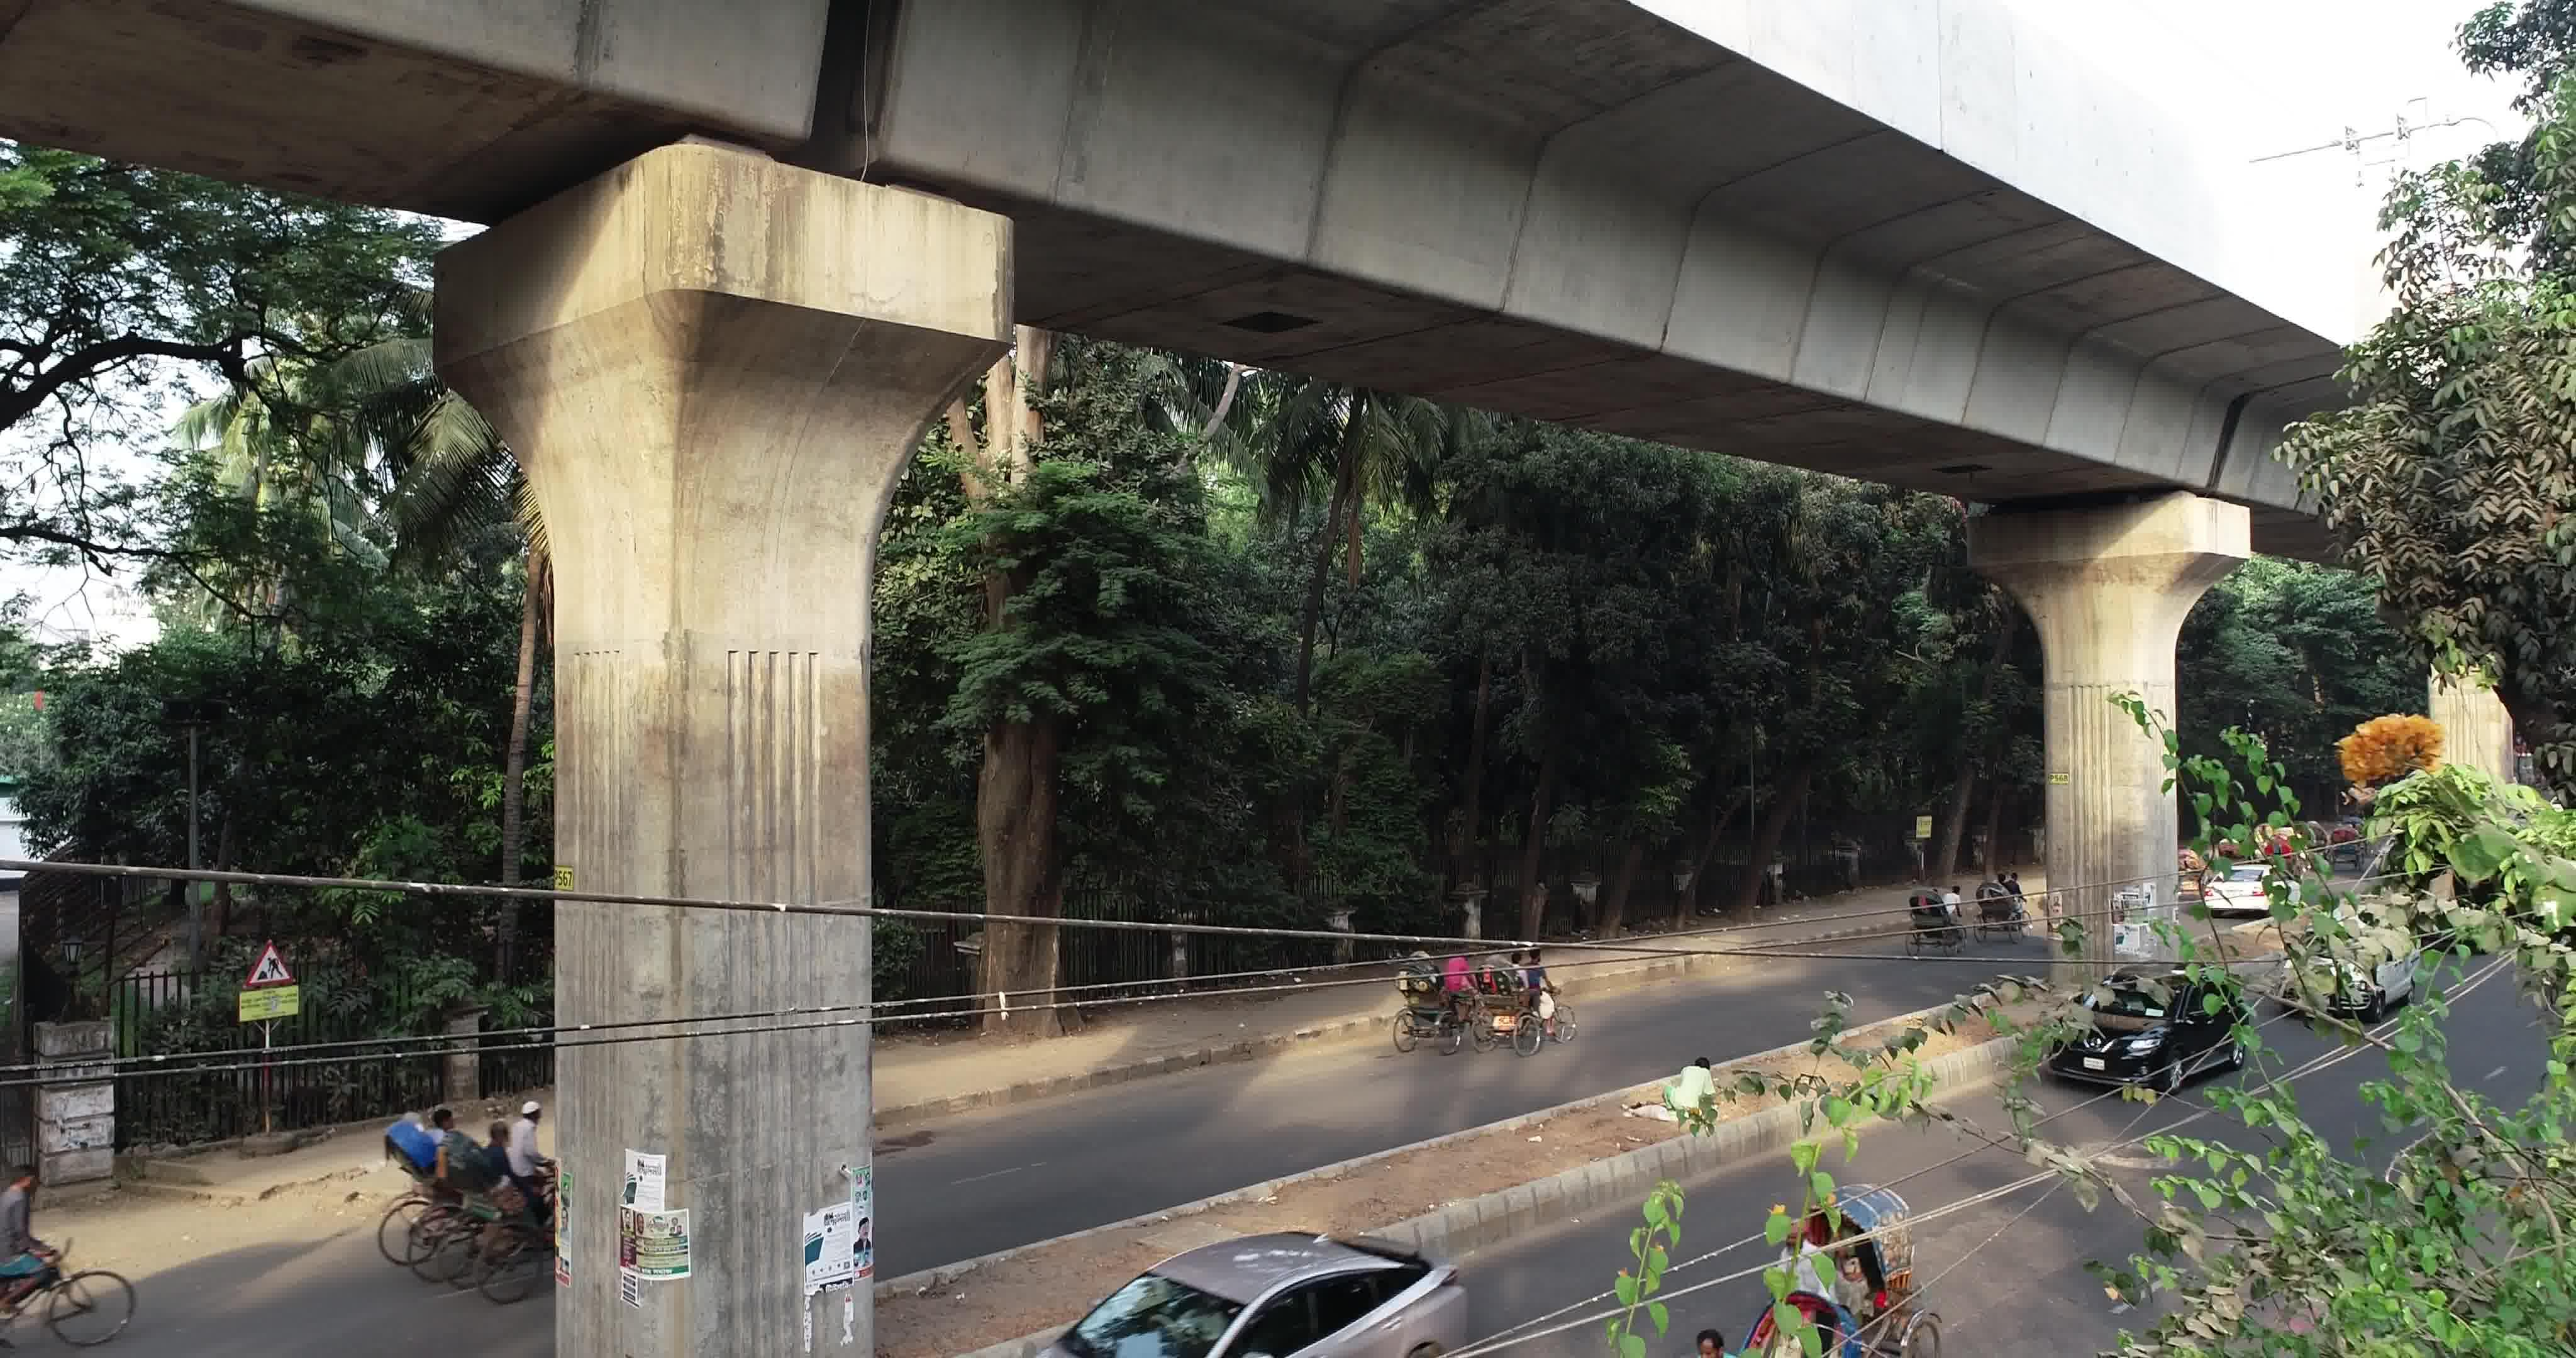car: (1072, 1232, 1474, 1355), (2048, 966, 2254, 1082), (2211, 862, 2276, 912)
rickshaw: (1796, 1189, 1932, 1358), (1477, 956, 1569, 1050), (1394, 958, 1453, 1050), (1905, 889, 1968, 956), (1976, 883, 2033, 941), (2332, 823, 2361, 864)
